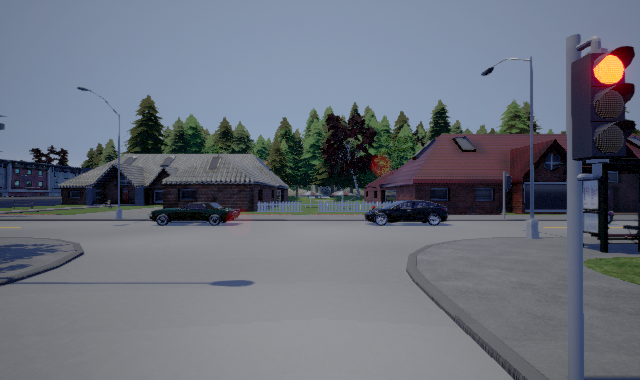traffic_light: (571, 36, 636, 181)
vehicle: (149, 202, 240, 226), (364, 200, 448, 226)
